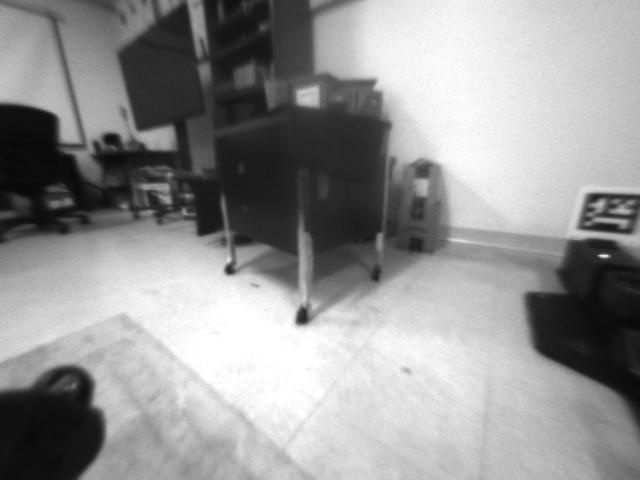coffee_cup: (262, 78, 289, 112)
